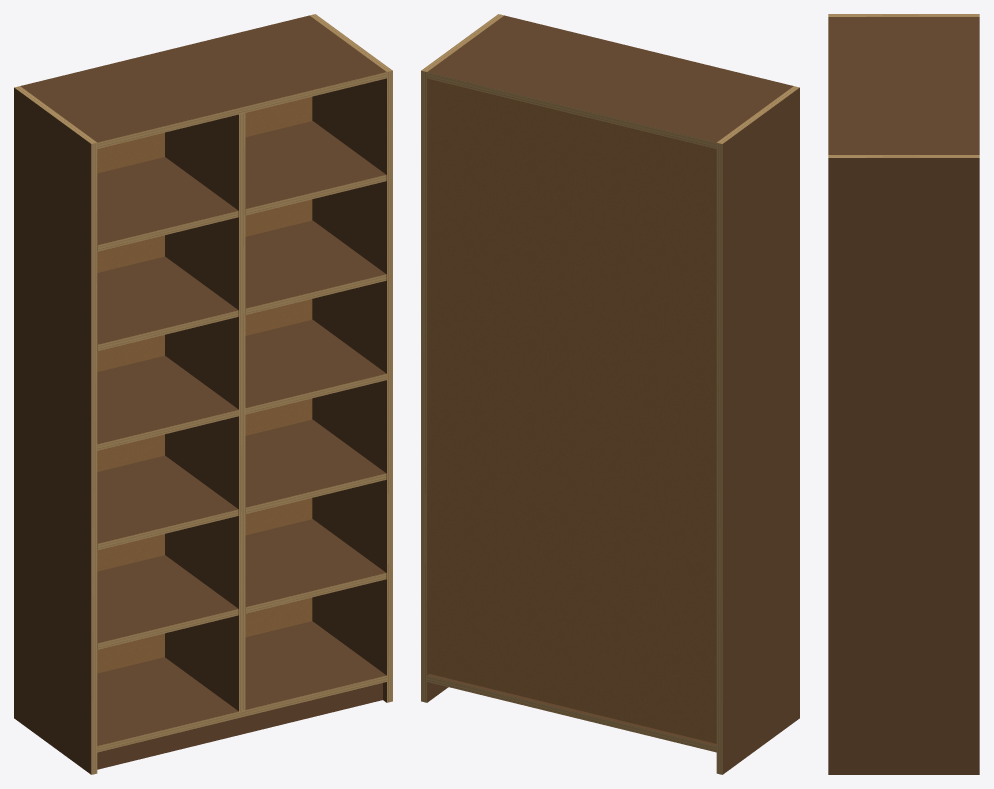
Rendered from HIN-UTL-std.glb.
3 views of the same model, side by side, from view 1: azimuth 30°, elevation 25°; view 2: azimuth 150°, elevation 25°; view 3: azimuth 270°, elevation 25° (orthographic). The views are drawn at different scales.
Visible parts, largest first — view 1: side-l:pbr, side-r:pbr, partition:pbr, top:pbr, back:sheet:eyJtIjoibWRmIiwic2lkZSI6ImZhY2UiLCJzZWVkIjo0LCJ0a, bottom:pbr, shelf-fixedl:pbr, shelf-fixedr:pbr, shelf-5:pbr, shelf-1:pbr, shelf-3:pbr, shelf-7:pbr (+20 smaller); view 2: back:sheet:eyJtIjoibWRmIiwic2lkZSI6ImZhY2UiLCJzZWVkIjo0LCJ0a, side-l:pbr, top:pbr, side-l:sheet:eyJtIjoicGx5Iiwic2lkZSI6ImVkZ2UtbG9uZyIsInNlZWQ, side-r:sheet:eyJtIjoicGx5Iiwic2lkZSI6ImVkZ2UtbG9uZyIsInNlZWQ, side-r:pbr, top:sheet:eyJtIjoicGx5Iiwic2lkZSI6ImVkZ2UtbG9uZyIsInNlZWQiOj, bottom:sheet:eyJtIjoicGx5Iiwic2lkZSI6ImVkZ2UtbG9uZyIsInNlZWQ, bottom:pbr; view 3: side-r:pbr, top:pbr, side-l:sheet:eyJtIjoicGx5Iiwic2lkZSI6ImVkZ2UtZW5kIiwic2VlZCI, side-r:sheet:eyJtIjoicGx5Iiwic2lkZSI6ImVkZ2UtZW5kIiwic2VlZCI.
Part boxes in pixels (bbox=[...]): side-l:pbr: bbox=[14, 87, 91, 774]; side-r:pbr: bbox=[312, 78, 386, 702]; partition:pbr: bbox=[165, 114, 238, 710]; top:pbr: bbox=[20, 15, 386, 142]; back:sheet:eyJtIjoibWRmIiwic2lkZSI6ImZhY2UiLCJzZWVkIjo0LCJ0a: bbox=[97, 96, 312, 673]; bottom:pbr: bbox=[97, 621, 386, 745]; shelf-fixedl:pbr: bbox=[97, 355, 238, 444]; shelf-fixedr:pbr: bbox=[245, 319, 386, 408]; shelf-5:pbr: bbox=[97, 256, 238, 344]; shelf-1:pbr: bbox=[97, 555, 238, 643]; shelf-3:pbr: bbox=[97, 455, 238, 543]; shelf-7:pbr: bbox=[97, 157, 238, 244]; back:sheet:eyJtIjoibWRmIiwic2lkZSI6ImZhY2UiLCJzZWVkIjo0LCJ0a: bbox=[429, 79, 716, 743]; side-l:pbr: bbox=[722, 87, 799, 774]; top:pbr: bbox=[427, 15, 793, 142]; side-l:sheet:eyJtIjoicGx5Iiwic2lkZSI6ImVkZ2UtbG9uZyIsInNlZWQ: bbox=[716, 143, 722, 774]; side-r:sheet:eyJtIjoicGx5Iiwic2lkZSI6ImVkZ2UtbG9uZyIsInNlZWQ: bbox=[421, 70, 426, 702]; side-r:pbr: bbox=[427, 78, 448, 702]; top:sheet:eyJtIjoicGx5Iiwic2lkZSI6ImVkZ2UtbG9uZyIsInNlZWQiOj: bbox=[427, 72, 716, 148]; bottom:sheet:eyJtIjoicGx5Iiwic2lkZSI6ImVkZ2UtbG9uZyIsInNlZWQ: bbox=[427, 675, 716, 752]; bottom:pbr: bbox=[427, 674, 716, 745]; side-r:pbr: bbox=[828, 158, 979, 774]; top:pbr: bbox=[828, 17, 979, 154]; side-l:sheet:eyJtIjoicGx5Iiwic2lkZSI6ImVkZ2UtZW5kIiwic2VlZCI: bbox=[828, 14, 979, 16]; side-r:sheet:eyJtIjoicGx5Iiwic2lkZSI6ImVkZ2UtZW5kIiwic2VlZCI: bbox=[828, 155, 979, 157].
Size of the model in its own units: 0.9 by 1.8 by 0.4.
51 materials, 35 textured.
